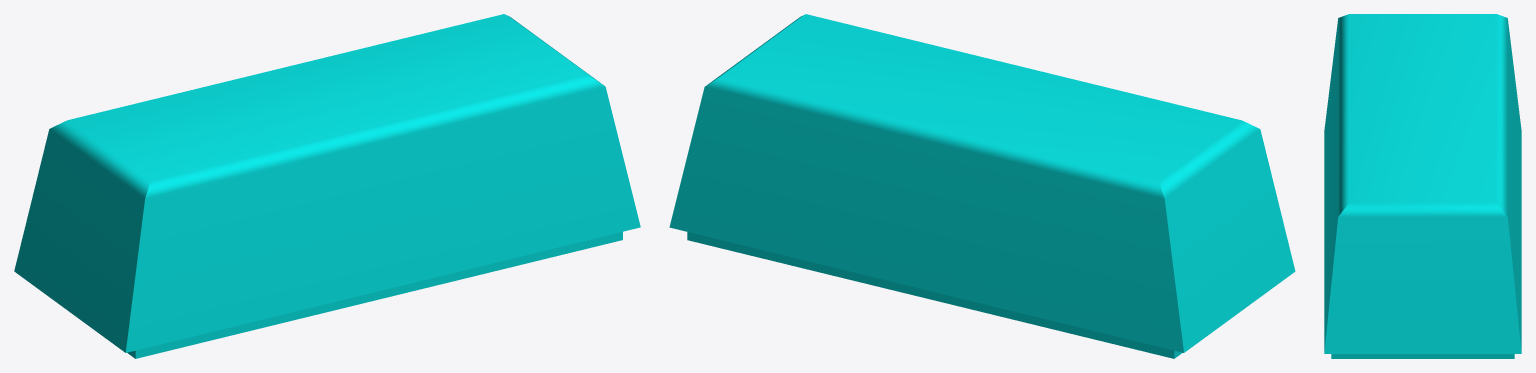
File: classroomDuster.fbx
3 renders of one model, left to right at view 1: azimuth 30°, elevation 25°; view 2: azimuth 150°, elevation 25°; view 3: azimuth 270°, elevation 25°, orthographic. The views are drawn at different scales.
Parts seen in each view (by area): view 1: classroomDuster; view 2: classroomDuster; view 3: classroomDuster.
Boxes of the visible parts, bbox=[...] form: classroomDuster: bbox=[14, 14, 640, 358]; classroomDuster: bbox=[669, 14, 1295, 358]; classroomDuster: bbox=[1324, 14, 1521, 358].
Bounding box in the file's own units: 16 × 4.87 × 6.
